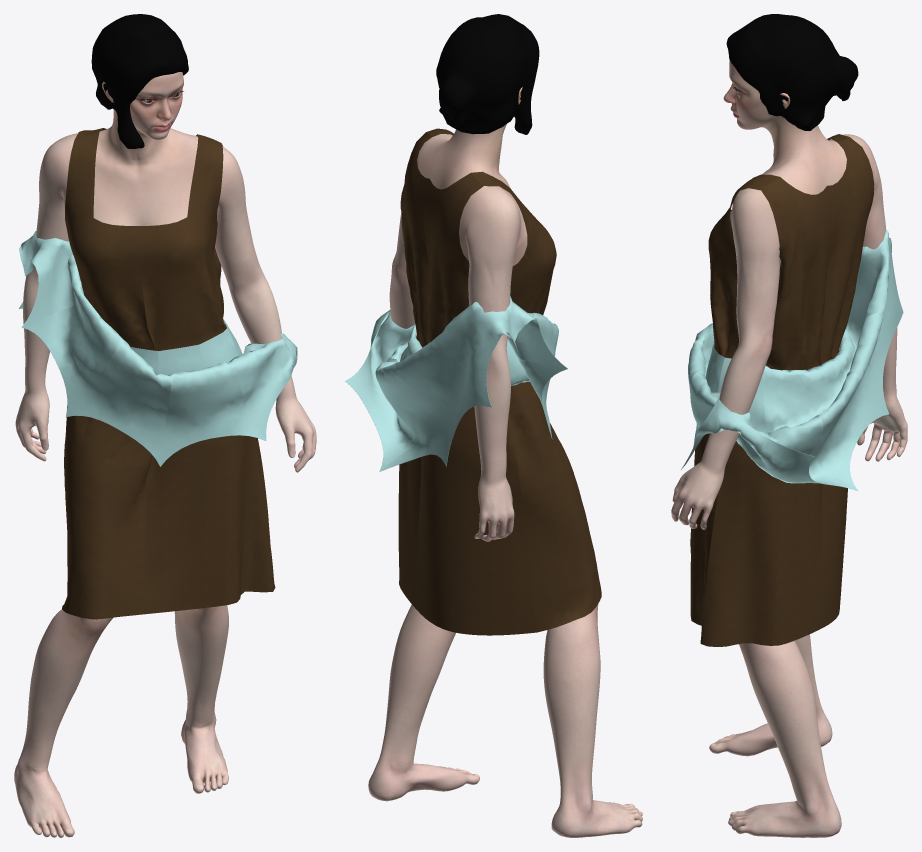
Rendered from Dramatic.obj.
3 views of the same model, side by side, from view 1: azimuth 30°, elevation 25°; view 2: azimuth 150°, elevation 25°; view 3: azimuth 270°, elevation 25° (orthographic). The views are drawn at different scales.
Size of the model in its own units: 612 by 1724 by 471.
